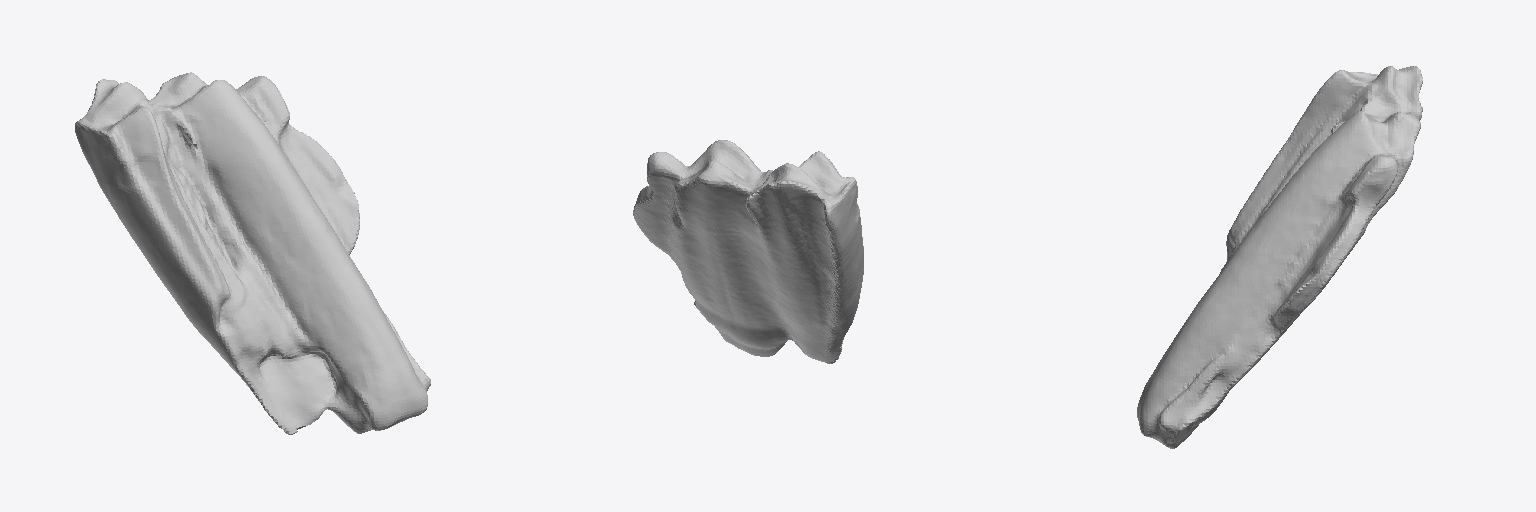
Rendered from MB Ovis 22 M3.obj.
The picture shows the model from 3 angles: view 1: azimuth 30°, elevation 25°; view 2: azimuth 150°, elevation 25°; view 3: azimuth 270°, elevation 25°; orthographic projection.
Size of the model in its own units: 26.04 by 30.9 by 26.44.